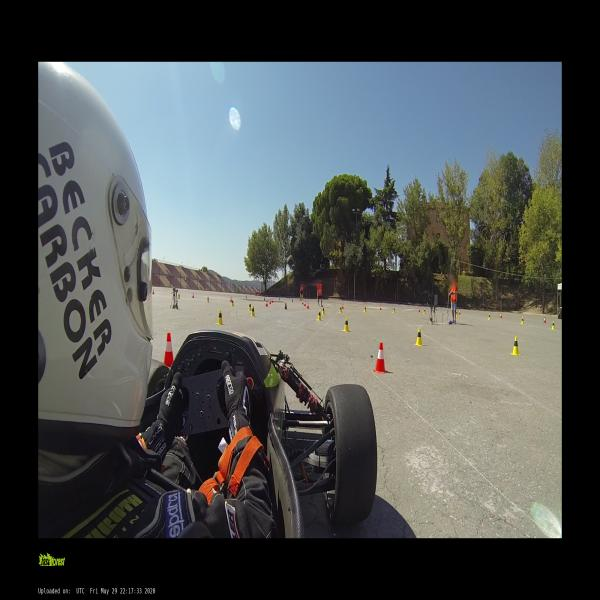blue_cone: (285, 302, 287, 310), (292, 298, 293, 303), (264, 297, 265, 301), (246, 295, 247, 299), (279, 297, 280, 300)
orange_cone: (373, 342, 388, 373), (164, 332, 174, 364), (458, 308, 461, 315), (544, 316, 546, 324), (379, 305, 382, 310), (307, 302, 309, 309), (500, 312, 502, 318), (302, 299, 304, 305), (304, 301, 306, 307), (230, 296, 232, 302), (342, 303, 344, 309), (266, 300, 267, 307), (153, 289, 154, 295), (270, 298, 271, 304), (272, 298, 273, 304), (419, 307, 420, 312), (193, 293, 194, 298)
yellow_cone: (511, 336, 520, 356), (416, 327, 423, 346), (343, 317, 350, 332), (217, 310, 223, 325), (251, 306, 255, 316), (551, 320, 555, 329), (318, 310, 321, 320), (521, 316, 524, 325), (322, 306, 325, 315), (392, 306, 395, 313), (249, 302, 251, 311), (339, 306, 342, 312), (232, 299, 234, 306), (456, 309, 458, 316), (207, 296, 209, 303), (488, 314, 490, 320), (423, 308, 425, 314), (364, 306, 366, 312), (178, 293, 180, 299)
